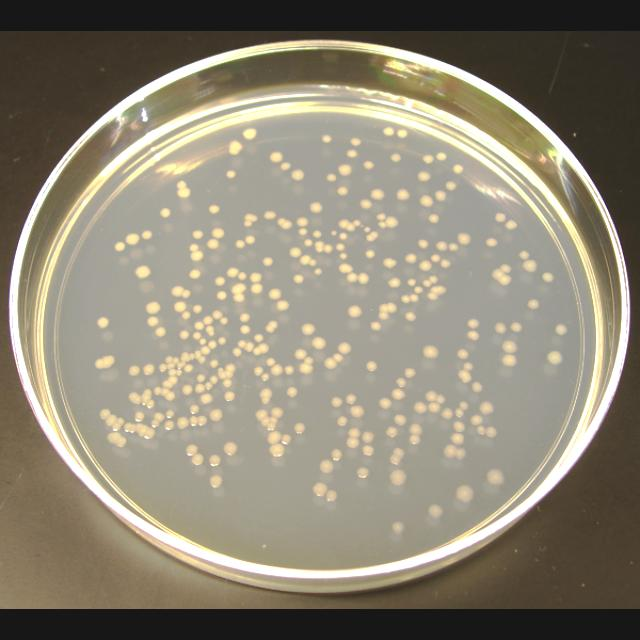colony: (492, 270, 511, 285), (458, 486, 474, 502), (261, 416, 278, 431), (410, 424, 422, 445), (135, 424, 154, 437), (312, 482, 328, 497), (488, 470, 504, 485), (390, 448, 404, 465), (390, 471, 405, 486), (110, 415, 124, 431), (162, 376, 178, 388), (270, 444, 284, 457), (548, 351, 561, 365), (100, 356, 115, 368), (265, 321, 278, 334), (338, 342, 351, 355), (429, 505, 442, 518), (146, 302, 160, 314), (136, 266, 150, 278), (230, 141, 242, 155), (242, 128, 256, 140), (371, 188, 385, 200), (459, 370, 471, 384), (502, 342, 516, 354), (431, 285, 446, 296), (108, 432, 121, 444), (129, 392, 141, 405), (268, 432, 280, 445), (392, 522, 404, 535), (444, 445, 456, 458), (441, 408, 454, 420), (481, 402, 494, 414), (126, 234, 140, 245), (232, 284, 246, 295), (312, 337, 326, 348), (502, 355, 516, 366), (141, 390, 151, 405), (192, 454, 204, 466), (326, 490, 338, 502), (269, 288, 281, 300), (300, 362, 312, 374), (362, 432, 374, 444), (310, 202, 322, 214), (398, 188, 410, 200), (420, 195, 432, 207), (414, 402, 426, 414), (255, 410, 268, 421), (325, 357, 338, 368), (331, 448, 342, 461), (346, 437, 359, 448), (351, 406, 364, 417), (425, 391, 438, 402), (261, 390, 271, 404), (424, 347, 438, 357), (210, 476, 221, 488), (186, 445, 198, 456), (172, 286, 184, 297), (366, 361, 378, 372), (524, 260, 536, 271), (125, 422, 136, 434), (295, 350, 308, 360), (291, 170, 304, 180), (278, 218, 291, 228), (382, 258, 396, 267), (98, 317, 109, 328), (225, 444, 236, 455), (210, 455, 221, 466), (321, 461, 332, 472), (144, 364, 155, 375), (219, 367, 230, 378), (271, 407, 282, 418), (271, 365, 282, 376), (358, 467, 369, 478), (471, 415, 482, 426), (459, 234, 470, 245), (106, 414, 116, 426), (212, 228, 224, 238), (192, 251, 204, 261), (302, 325, 314, 335), (386, 427, 398, 437), (349, 306, 361, 316), (339, 165, 351, 175), (386, 217, 398, 227), (452, 435, 464, 445), (556, 325, 568, 335), (366, 232, 379, 241), (155, 327, 166, 337), (178, 417, 189, 427), (211, 410, 221, 421), (208, 240, 219, 250), (175, 302, 186, 312), (201, 394, 212, 404), (228, 267, 239, 277), (251, 284, 262, 294), (278, 301, 289, 311), (331, 397, 342, 407), (380, 398, 391, 408), (410, 425, 421, 435), (270, 152, 281, 162), (298, 217, 309, 227), (290, 247, 301, 257), (300, 255, 311, 265), (360, 200, 371, 210), (420, 261, 431, 271), (455, 449, 465, 460), (454, 422, 465, 432), (468, 331, 479, 341), (495, 324, 506, 334), (511, 322, 522, 332), (528, 300, 539, 310), (543, 272, 554, 282), (505, 220, 516, 230), (114, 438, 126, 447), (346, 272, 358, 281), (422, 155, 434, 164), (256, 344, 269, 352), (100, 410, 110, 420), (198, 416, 208, 426), (182, 385, 192, 395), (165, 391, 175, 401), (195, 384, 205, 394), (281, 435, 291, 445), (295, 424, 305, 434), (338, 416, 348, 426), (364, 446, 374, 456), (349, 428, 359, 438), (346, 395, 356, 405), (315, 242, 325, 252), (359, 274, 369, 284), (436, 191, 446, 201), (469, 318, 479, 328), (472, 382, 482, 392), (141, 231, 152, 240), (135, 411, 144, 422), (154, 412, 165, 421), (179, 188, 190, 197), (166, 357, 175, 368), (264, 211, 275, 220), (389, 278, 400, 287), (393, 390, 405, 398), (129, 366, 139, 375), (149, 317, 159, 326), (115, 242, 125, 251), (160, 208, 170, 217), (192, 305, 202, 314), (225, 392, 235, 401), (195, 321, 204, 331), (244, 343, 254, 352), (215, 277, 225, 286), (405, 368, 415, 377), (294, 275, 304, 284), (262, 257, 272, 266), (338, 187, 348, 196), (351, 137, 361, 146), (384, 127, 394, 136), (429, 215, 439, 224), (387, 304, 396, 314), (405, 312, 415, 321), (486, 427, 495, 437), (234, 294, 245, 302), (341, 264, 352, 272), (419, 173, 430, 181), (458, 350, 469, 358), (495, 214, 506, 222), (165, 421, 174, 430), (180, 331, 189, 340), (181, 352, 190, 361), (222, 378, 231, 387), (201, 346, 210, 355), (241, 325, 250, 334), (232, 347, 241, 356), (285, 366, 294, 375), (322, 135, 331, 144), (346, 222, 355, 231), (436, 395, 445, 404), (455, 408, 464, 417), (520, 251, 529, 260), (190, 270, 200, 278), (240, 314, 250, 322), (288, 387, 296, 397), (332, 354, 342, 362), (395, 416, 405, 424), (391, 154, 401, 162), (436, 152, 446, 160), (446, 182, 456, 190), (379, 312, 389, 320), (429, 404, 439, 412), (488, 238, 498, 246), (438, 242, 448, 250), (194, 350, 201, 361), (339, 221, 350, 228), (191, 405, 199, 414), (146, 400, 155, 408), (159, 364, 168, 372), (192, 332, 201, 340), (204, 316, 212, 325), (206, 327, 214, 336), (214, 311, 222, 320), (252, 274, 261, 282), (254, 367, 262, 376), (266, 358, 275, 366), (236, 240, 245, 248), (247, 236, 255, 245), (246, 215, 258, 221), (281, 162, 290, 170), (324, 245, 332, 254), (339, 232, 348, 240), (366, 250, 375, 258), (419, 240, 428, 248), (454, 165, 462, 174), (372, 322, 381, 330), (402, 295, 410, 304), (429, 276, 438, 284), (429, 292, 438, 300), (464, 362, 472, 371), (209, 205, 219, 212), (326, 174, 336, 181), (348, 150, 358, 157), (376, 214, 386, 221), (190, 418, 198, 426), (182, 290, 190, 298), (182, 312, 190, 320), (210, 376, 218, 384), (227, 364, 235, 372), (220, 317, 228, 325), (252, 347, 260, 355), (218, 292, 226, 300), (414, 286, 422, 294), (411, 294, 419, 302), (460, 402, 468, 410), (95, 359, 102, 368), (226, 171, 235, 178), (198, 355, 205, 364), (398, 378, 405, 387), (336, 244, 345, 251), (399, 130, 408, 137), (407, 255, 416, 262), (379, 305, 388, 312), (422, 280, 431, 287), (431, 255, 440, 262), (441, 260, 450, 267), (502, 265, 511, 272), (151, 420, 159, 427), (166, 411, 174, 418), (178, 181, 186, 188), (194, 231, 202, 238), (191, 244, 199, 251), (154, 387, 161, 395), (184, 365, 192, 372), (211, 360, 219, 367), (205, 382, 212, 390), (208, 341, 216, 348), (219, 337, 226, 345), (238, 341, 246, 348), (256, 335, 264, 342), (239, 272, 246, 280), (261, 374, 269, 381), (244, 220, 252, 227), (366, 161, 374, 168), (478, 427, 485, 435), (451, 244, 459, 251), (198, 375, 205, 382), (305, 357, 312, 364), (301, 228, 308, 235), (309, 259, 316, 266), (354, 220, 361, 227), (178, 362, 186, 368), (379, 220, 385, 228), (408, 280, 416, 286), (169, 370, 176, 376), (200, 338, 206, 345), (314, 231, 321, 237), (315, 268, 321, 275), (331, 230, 338, 236), (341, 254, 348, 260), (306, 240, 312, 246), (177, 370, 182, 376), (364, 227, 370, 232)
